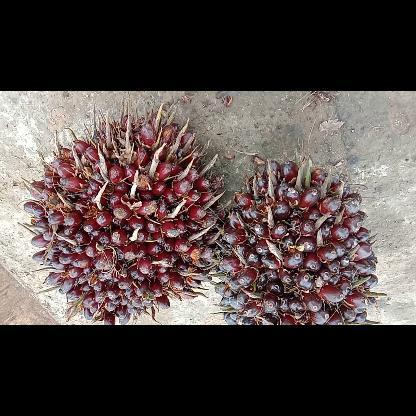Kurang masak: (220, 160, 386, 324)
TBS masak: (25, 103, 218, 324)
